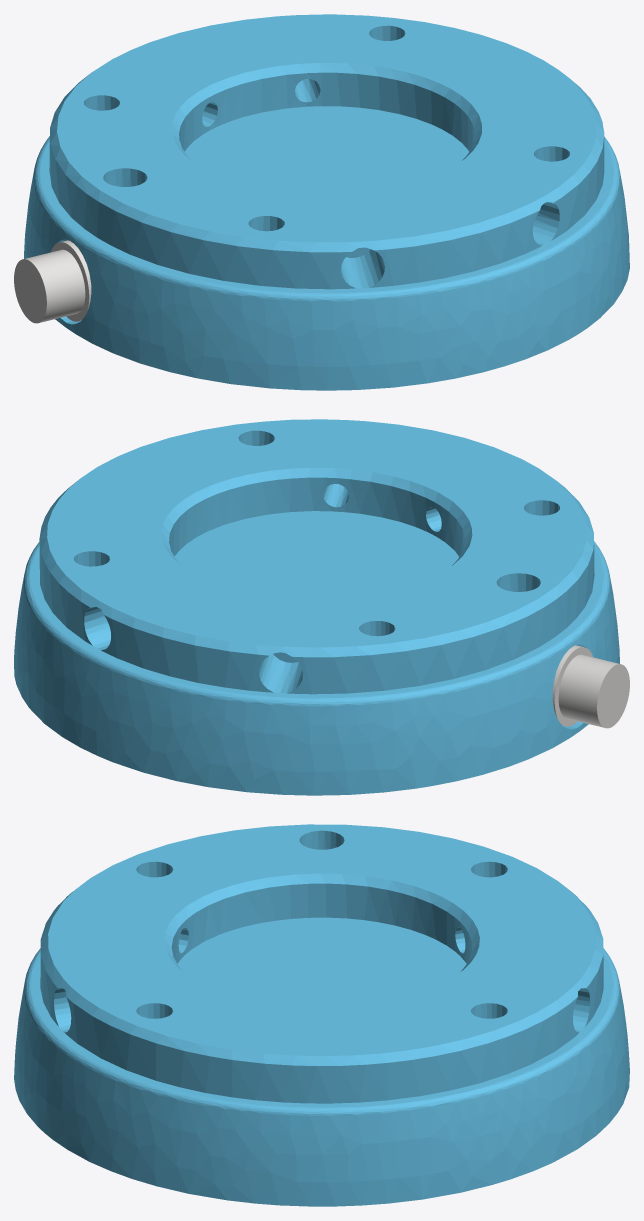
The picture shows the model from 3 angles, top to bottom: view 1: azimuth 30°, elevation 25°; view 2: azimuth 150°, elevation 25°; view 3: azimuth 270°, elevation 25°; orthographic projection.
Visible parts, largest first — view 1: Untitled_007_001, Untitled_007; view 2: Untitled_007_001, Untitled_007; view 3: Untitled_007_001.
Boxes of the visible parts, x1,y1,x2,y2 form: Untitled_007_001: [24, 14, 629, 390]; Untitled_007: [14, 240, 91, 323]; Untitled_007_001: [14, 419, 619, 795]; Untitled_007: [552, 645, 629, 728]; Untitled_007_001: [14, 824, 629, 1206].
Size of the model in its own units: 0.0873 by 0.082 by 0.02.
